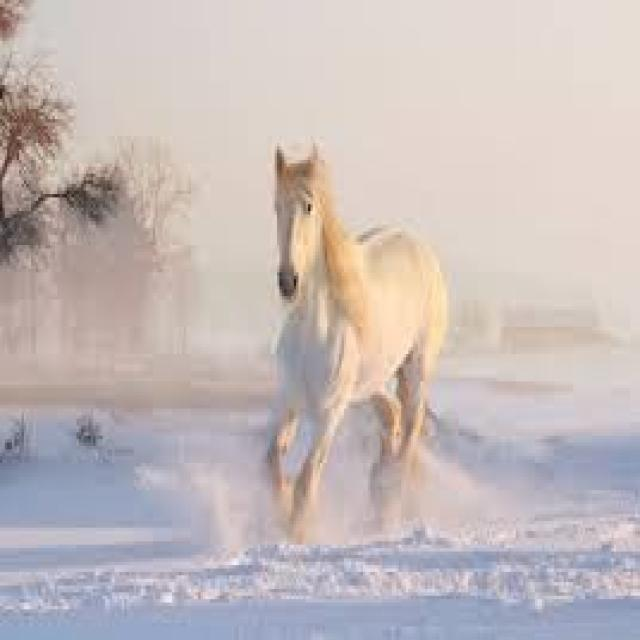Horse: (258, 135, 441, 547)
